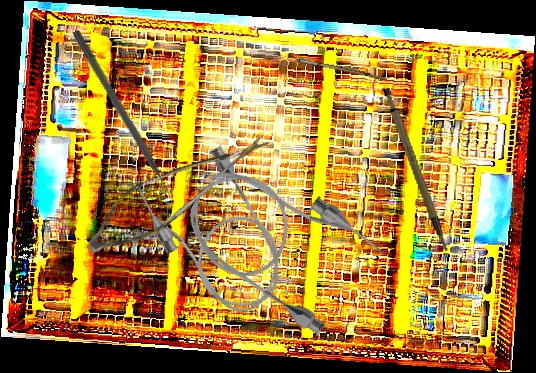Cannula: (169, 141, 391, 343), (127, 134, 302, 333)
Micro Scissor: (77, 95, 273, 283)
Pusher: (69, 29, 179, 206)
Scalpel Handle: (380, 82, 449, 258)
Surgical Spoon: (265, 51, 388, 81)
